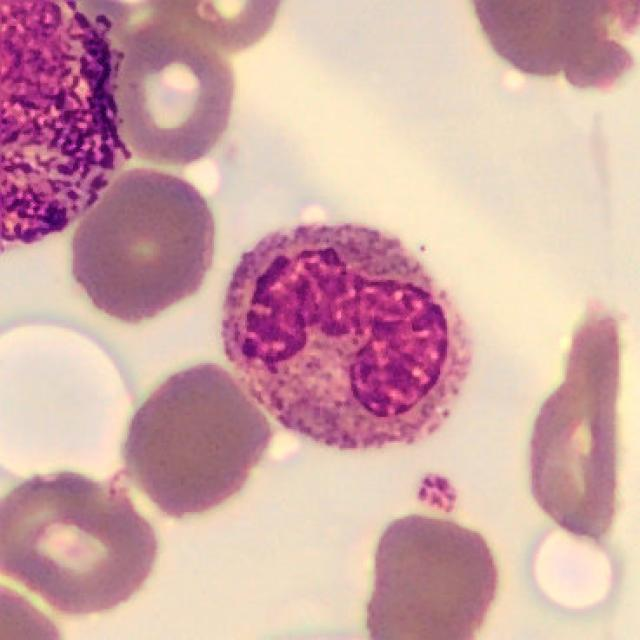Bastonete: (219, 222, 472, 454)
